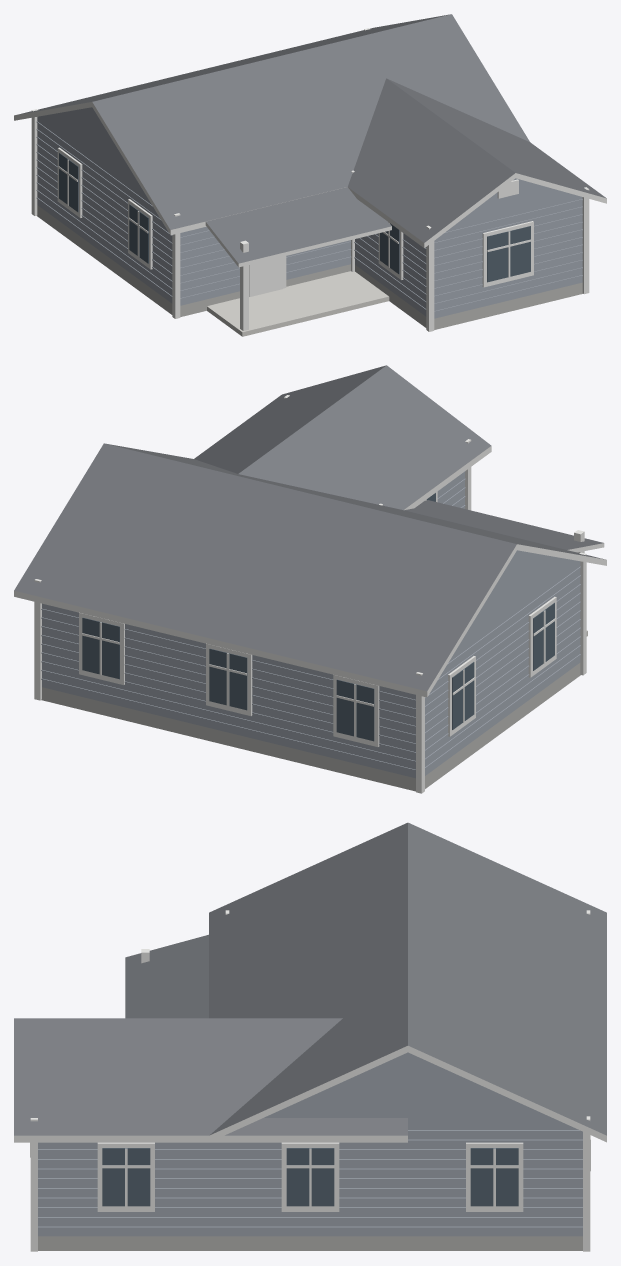
The model's file is oakdale-cottage.glb.
The picture shows the model from 3 angles, top to bottom: view 1: azimuth 30°, elevation 25°; view 2: azimuth 150°, elevation 25°; view 3: azimuth 270°, elevation 25°; orthographic projection. The views are drawn at different scales.
Visible parts, largest first — view 1: The Oakdale (cottage); view 2: The Oakdale (cottage); view 3: The Oakdale (cottage).
Part boxes in pixels (x1=…): The Oakdale (cottage): x1=14, y1=14, x2=606, y2=336; The Oakdale (cottage): x1=14, y1=365, x2=606, y2=793; The Oakdale (cottage): x1=14, y1=822, x2=606, y2=1251.
Size of the model in its own units: 9.9 by 4.43 by 11.12.
